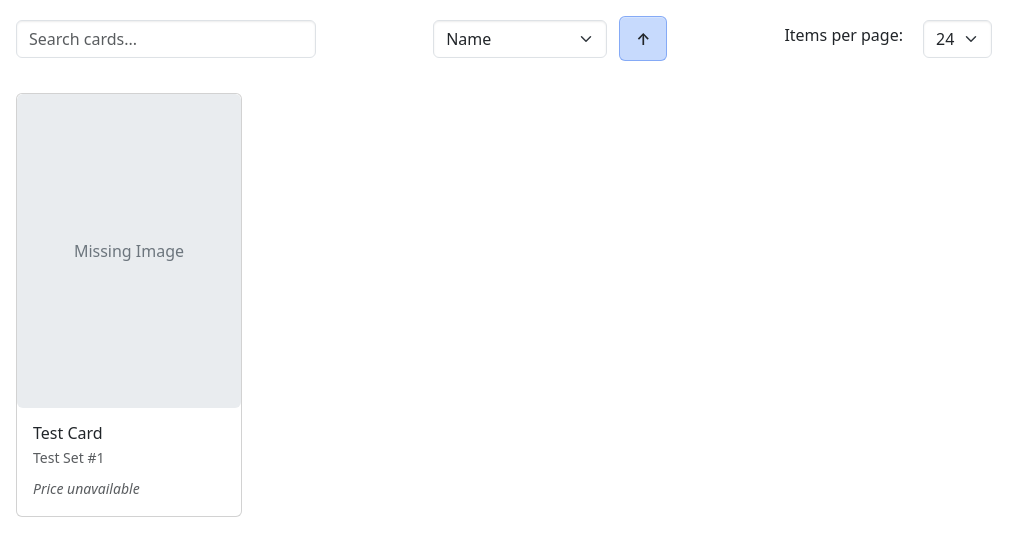
Test case: CardsView › should show empty state when search returns no results
Set search query that won't match any cards
Type "Nonexistent Card" into the field with placeholder "Search cards..." at (166, 39), box [16,20,316,58]
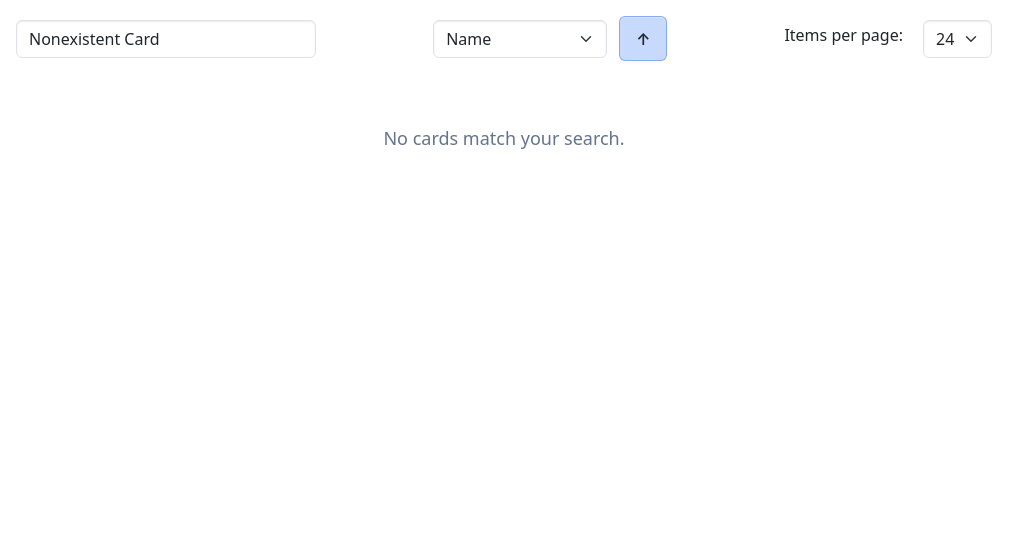
Expected: the text "No cards match your search." is shown, [383,126,625,150]
